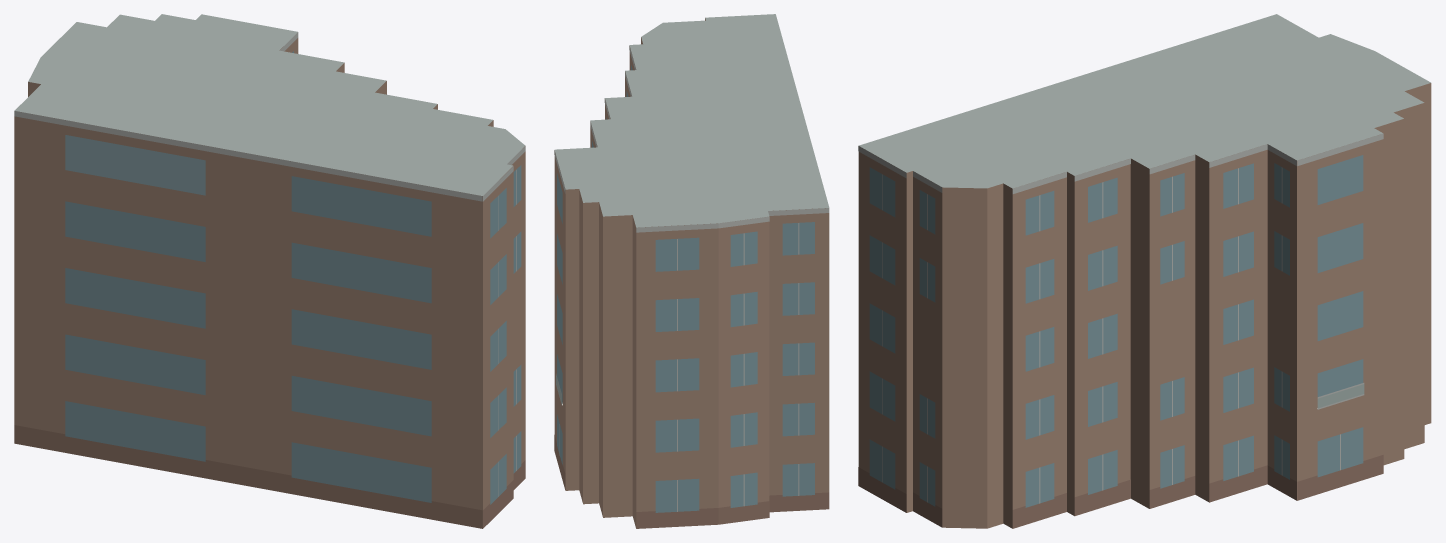
Rendered from survey-upis-33021227.glb.
3 views of the same model, side by side, from view 1: azimuth 30°, elevation 25°; view 2: azimuth 150°, elevation 25°; view 3: azimuth 270°, elevation 25° (orthographic). The views are drawn at different scales.
Visible parts, largest first — view 1: survey-upis-33021227.tmp; view 2: survey-upis-33021227.tmp; view 3: survey-upis-33021227.tmp.
Part boxes in pixels (x1,y1,x2,y2): survey-upis-33021227.tmp: (14, 14, 525, 528); survey-upis-33021227.tmp: (554, 14, 829, 528); survey-upis-33021227.tmp: (858, 14, 1431, 528).
Size of the model in its own units: 15.96 by 14.49 by 22.12.
